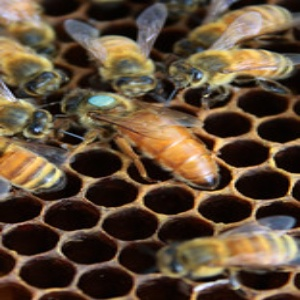bee: (63, 1, 163, 98), (156, 215, 296, 280), (169, 45, 298, 103), (2, 136, 65, 196)
